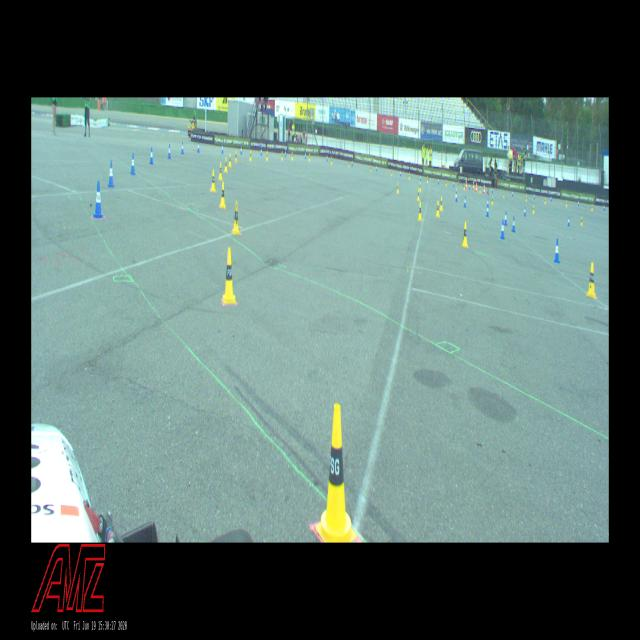blue_cone: (92, 181, 104, 218), (108, 161, 114, 187), (554, 239, 560, 263), (500, 220, 505, 238), (131, 153, 135, 175), (150, 148, 153, 164), (512, 216, 515, 232), (168, 144, 171, 159), (504, 212, 507, 226), (181, 142, 184, 154), (486, 204, 488, 217), (464, 196, 466, 207), (198, 142, 200, 152), (486, 198, 488, 208), (456, 192, 458, 202), (568, 217, 570, 226), (524, 207, 526, 216), (240, 146, 242, 155), (222, 145, 224, 153), (326, 154, 328, 162), (603, 204, 605, 211), (550, 196, 552, 202), (261, 147, 262, 156), (305, 152, 306, 160), (285, 150, 286, 157), (534, 193, 535, 200), (376, 165, 377, 171), (400, 170, 401, 176), (420, 175, 421, 181), (453, 181, 454, 187), (469, 184, 470, 190), (512, 190, 513, 196), (438, 179, 439, 184), (578, 201, 579, 206), (352, 160, 352, 167), (492, 187, 492, 194)
large_orange_cone: (465, 181, 467, 189), (483, 185, 485, 193), (476, 182, 477, 192), (473, 180, 474, 190)
yellow_cone: (316, 404, 356, 542), (222, 248, 236, 304), (587, 262, 596, 298), (232, 202, 240, 234), (220, 182, 226, 208), (462, 222, 468, 247), (210, 170, 216, 190), (418, 202, 422, 220), (218, 163, 222, 179), (436, 201, 439, 217), (225, 157, 228, 172), (229, 153, 231, 167), (440, 197, 442, 210), (235, 151, 237, 163), (250, 150, 252, 161), (396, 183, 398, 193), (417, 190, 419, 200), (266, 151, 268, 161), (281, 151, 283, 161), (580, 217, 582, 226), (491, 196, 493, 205), (419, 182, 421, 191), (455, 188, 457, 197), (532, 205, 534, 214), (479, 186, 481, 194), (445, 180, 447, 187), (544, 197, 546, 204), (292, 152, 293, 160), (309, 153, 310, 161), (331, 157, 332, 165), (409, 172, 410, 180), (566, 200, 567, 208), (370, 165, 371, 172), (427, 176, 428, 183), (464, 183, 465, 190), (348, 161, 349, 167), (503, 192, 504, 198), (392, 169, 392, 176), (526, 196, 526, 202), (592, 204, 592, 211)
